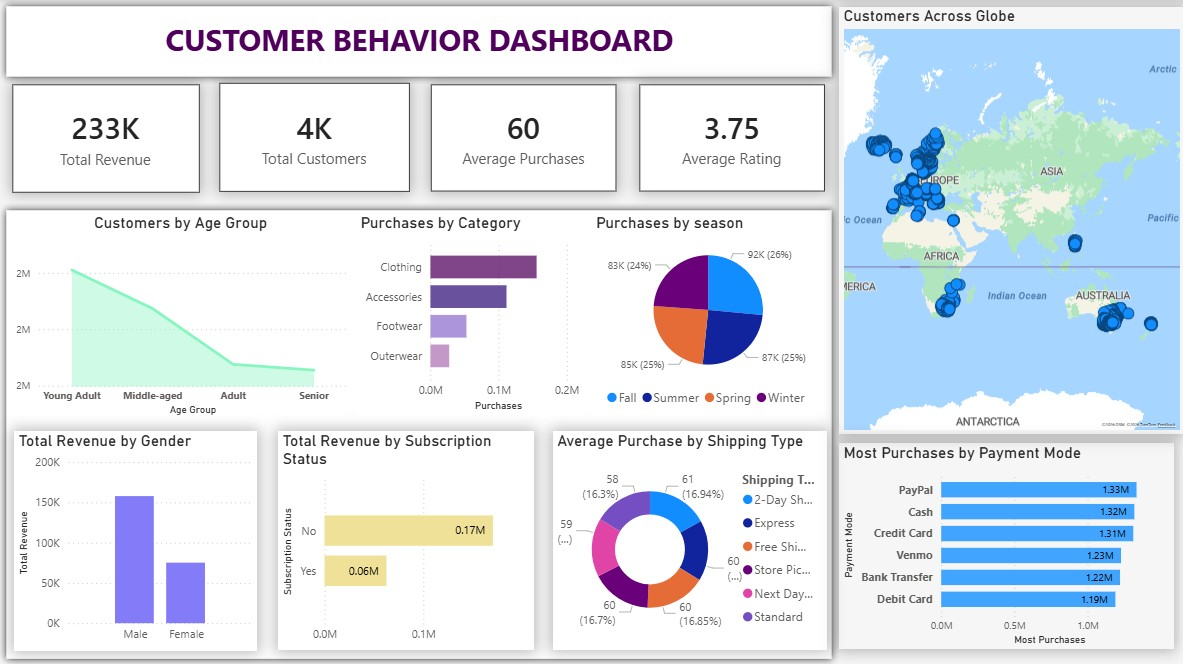

What the dashboard file says about the page in this screenshot:
{"tool":"powerbi","page":{"name":"Page 1","canvas":[1280,720],"ordinal":0},"visuals":[{"type":"cardVisual","fields":{"Data":["customer.Total Revenue"]},"box":[15,91.7,201.7,116.7],"z":0},{"type":"cardVisual","fields":{"Data":["customer.Total Customers"]},"box":[237.5,91.2,205,117.5],"z":1000},{"type":"cardVisual","fields":{"Data":["customer.Avg Purchase"]},"box":[465.6,92.2,200,115.6],"z":2000},{"type":"shape","box":[0,220,906.7,500],"z":3000},{"type":"clusteredColumnChart","fields":{"Category":["customer.gender"],"Y":["customer.Total Revenue"]},"box":[15.7,465.7,262.9,237.1],"z":4000},{"type":"clusteredBarChart","fields":{"Category":["customer.subscription_status"],"Y":["customer.Total Revenue"]},"box":[300.9,465.8,276.6,236.9],"z":5000},{"type":"shape","box":[0,0,906.7,91.7],"z":6000},{"type":"textbox","box":[25.7,15.7,855.7,58.6],"z":7000},{"type":"donutChart","fields":{"Category":["customer.shipping_type"],"Y":["customer.Avg Purchase"]},"box":[596.8,466.5,295.7,235.7],"z":8000},{"type":"stackedAreaChart","fields":{"Category":["customer.age_group"],"Y":["Sum(customer.customer_id)"]},"box":[15,231.2,360,217.5],"z":9000},{"type":"azureMap","fields":{"Category":["customer.customer_id"]},"box":[907,8,373,462],"z":10000},{"type":"cardVisual","fields":{"Data":["customer.Avg Review Rating"]},"box":[691.7,91.7,200,115],"z":11000},{"type":"pieChart","fields":{"Category":["customer.season"],"Y":["Sum(customer.purchase_frequency_days)"]},"box":[640,231.2,251.2,217.5],"z":12000},{"type":"barChart","fields":{"Category":["customer.payment_method"],"Y":["Sum(customer.customer_id)"]},"box":[907.1,480,361.4,222.9],"z":13000},{"type":"clusteredBarChart","fields":{"Category":["customer.category"],"Y":["Sum(customer.purchase_frequency_days)"]},"box":[385,231.2,246.2,217.5],"z":14000}]}

Visuals, with their boxes in screenshot pixels (x1, y1, x2, y2), scaled from the page's 1280x720 canvas onto the 1183x664 screenshot:
cardVisual - customer.Total Revenue: {"x1": 14, "y1": 85, "x2": 200, "y2": 192}
cardVisual - customer.Total Customers: {"x1": 220, "y1": 84, "x2": 409, "y2": 192}
cardVisual - customer.Avg Purchase: {"x1": 430, "y1": 85, "x2": 615, "y2": 192}
shape: {"x1": 0, "y1": 203, "x2": 838, "y2": 663}
clusteredColumnChart - customer.gender x customer.Total Revenue: {"x1": 15, "y1": 429, "x2": 257, "y2": 648}
clusteredBarChart - customer.subscription_status x customer.Total Revenue: {"x1": 278, "y1": 430, "x2": 534, "y2": 648}
shape: {"x1": 0, "y1": 0, "x2": 838, "y2": 85}
textbox: {"x1": 24, "y1": 14, "x2": 815, "y2": 69}
donutChart - customer.shipping_type x customer.Avg Purchase: {"x1": 552, "y1": 430, "x2": 825, "y2": 648}
stackedAreaChart - customer.age_group x Sum(customer.customer_id): {"x1": 14, "y1": 213, "x2": 347, "y2": 414}
azureMap - customer.customer_id: {"x1": 838, "y1": 7, "x2": 1182, "y2": 433}
cardVisual - customer.Avg Review Rating: {"x1": 639, "y1": 85, "x2": 824, "y2": 191}
pieChart - customer.season x Sum(customer.purchase_frequency_days): {"x1": 592, "y1": 213, "x2": 824, "y2": 414}
barChart - customer.payment_method x Sum(customer.customer_id): {"x1": 838, "y1": 443, "x2": 1172, "y2": 648}
clusteredBarChart - customer.category x Sum(customer.purchase_frequency_days): {"x1": 356, "y1": 213, "x2": 583, "y2": 414}
